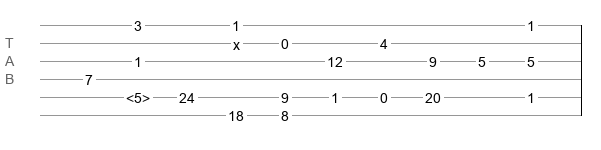0: (281, 36, 289, 46), (380, 90, 388, 100)
1: (134, 54, 142, 64), (232, 18, 240, 28), (331, 90, 339, 100), (527, 90, 535, 100), (527, 18, 535, 28)
12: (327, 54, 343, 64)
18: (228, 108, 244, 118)
20: (425, 90, 441, 100)
24: (179, 90, 195, 100)
3: (134, 18, 142, 28)
4: (380, 36, 388, 46)
5: (478, 54, 486, 64), (527, 54, 535, 64)
7: (85, 72, 93, 82)
8: (281, 108, 289, 118)
9: (281, 90, 289, 100), (429, 54, 437, 64)
harmonic: (126, 90, 150, 100)
x: (233, 37, 240, 45)
